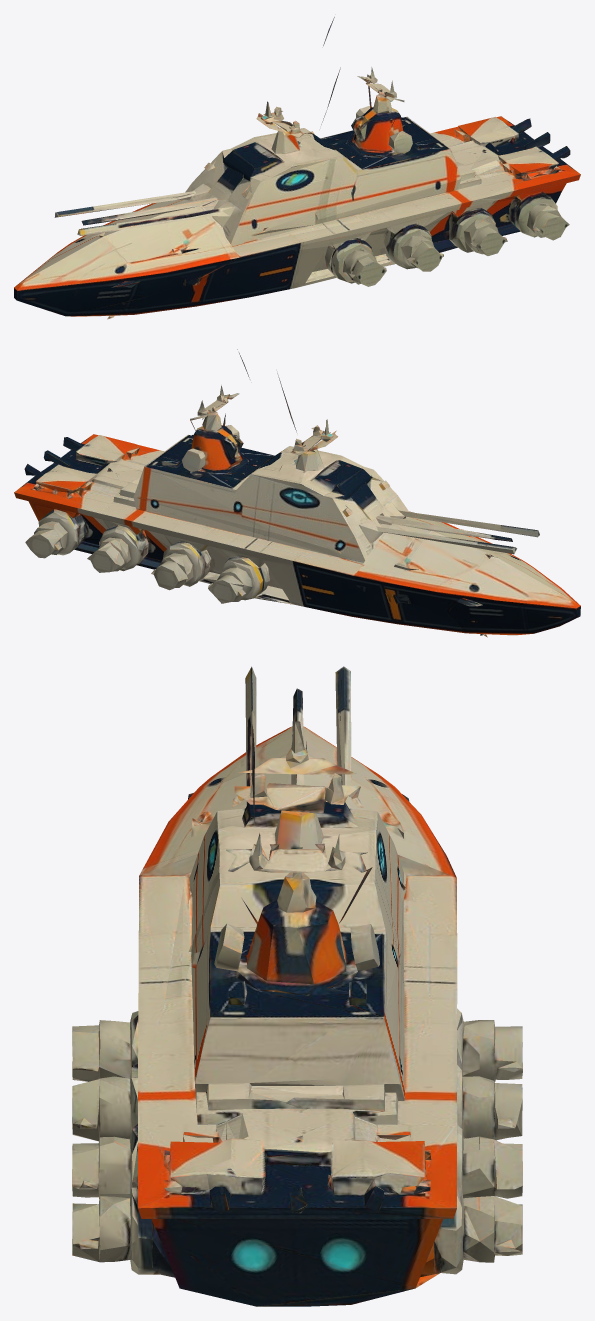
The model's file is nation-d-cruiser.glb.
3 renders of one model, top to bottom at view 1: azimuth 30°, elevation 25°; view 2: azimuth 150°, elevation 25°; view 3: azimuth 270°, elevation 25°, orthographic. The views are drawn at different scales.
Bounding box in the file's own units: 1.9 × 0.8146 × 0.6954.
1 material, 1 textured.
